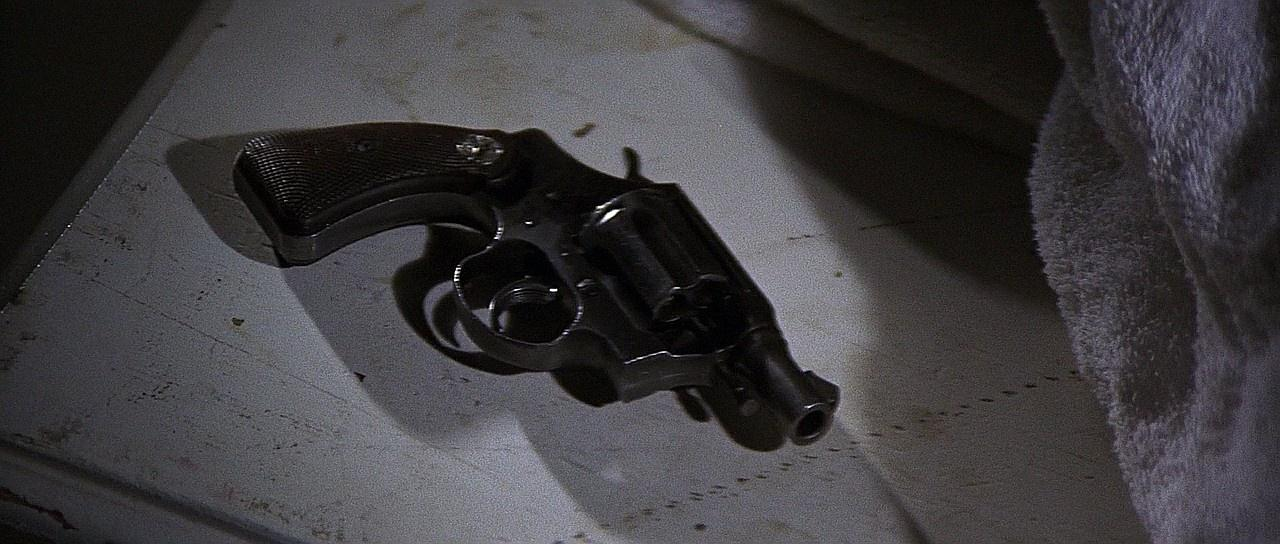gun: (170, 85, 882, 470)
